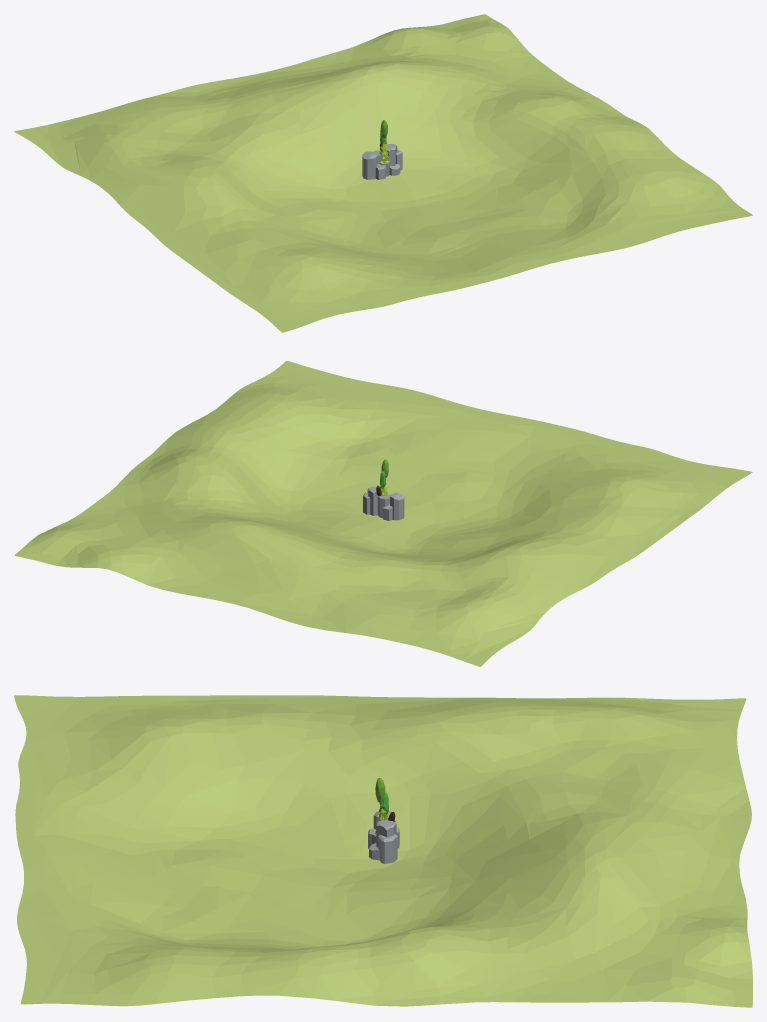
Rendered from env.glb.
The picture shows the model from 3 angles, top to bottom: view 1: azimuth 30°, elevation 25°; view 2: azimuth 150°, elevation 25°; view 3: azimuth 270°, elevation 25°; orthographic projection. The views are drawn at different scales.
Visible parts, largest first — view 1: LPW_Ground_A1_100x100_01, LPW_Rock_Wall_A1_01; view 2: LPW_Ground_A1_100x100_01, LPW_Rock_Wall_A1_01; view 3: LPW_Ground_A1_100x100_01, LPW_Rock_Wall_A1_01.
Boxes of the visible parts, x1,y1,x2,y2 form: LPW_Ground_A1_100x100_01: (14, 14, 752, 332); LPW_Rock_Wall_A1_01: (362, 144, 402, 179); LPW_Ground_A1_100x100_01: (14, 361, 752, 666); LPW_Rock_Wall_A1_01: (363, 486, 404, 520); LPW_Ground_A1_100x100_01: (14, 695, 752, 1007); LPW_Rock_Wall_A1_01: (368, 811, 399, 863).
Bounding box in the file's own units: 100 × 15.74 × 100.
Materials: 7 (6 with a texture image).
